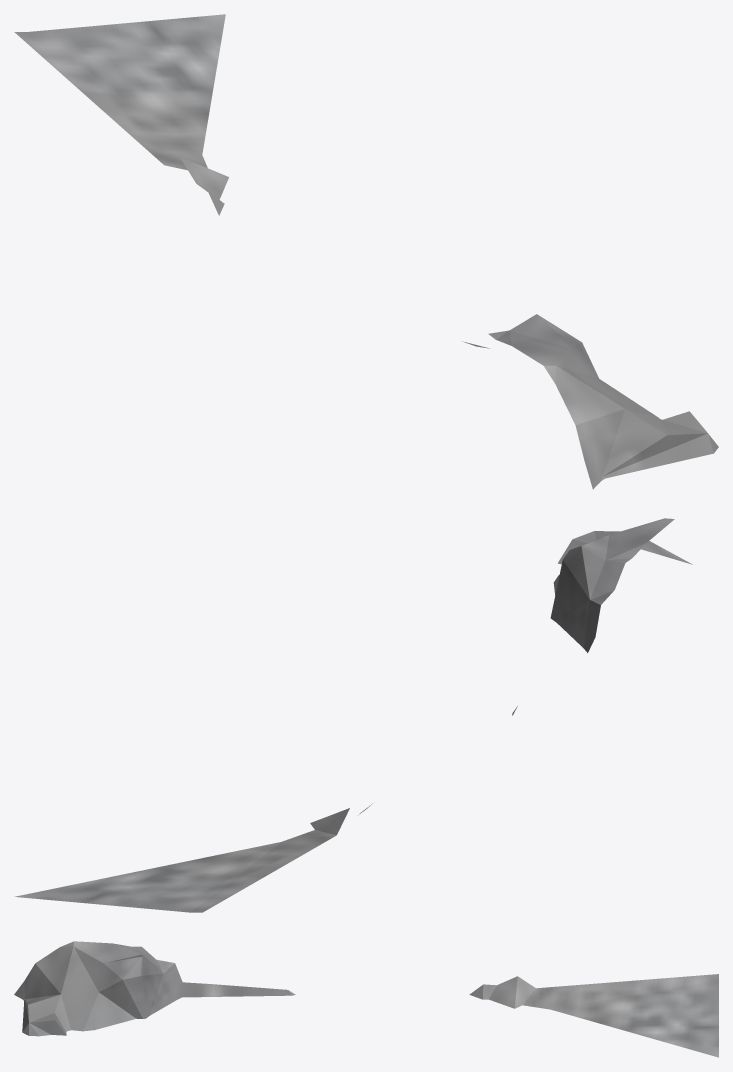
3 renders of one model, top to bottom at view 1: azimuth 30°, elevation 25°; view 2: azimuth 150°, elevation 25°; view 3: azimuth 270°, elevation 25°, orthographic. The views are drawn at different scales.
Size of the model in its own units: 0.147 by 0.0583 by 0.696.
Materials: 1 (1 with a texture image).
